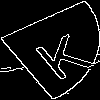K: (25, 25, 96, 82)
